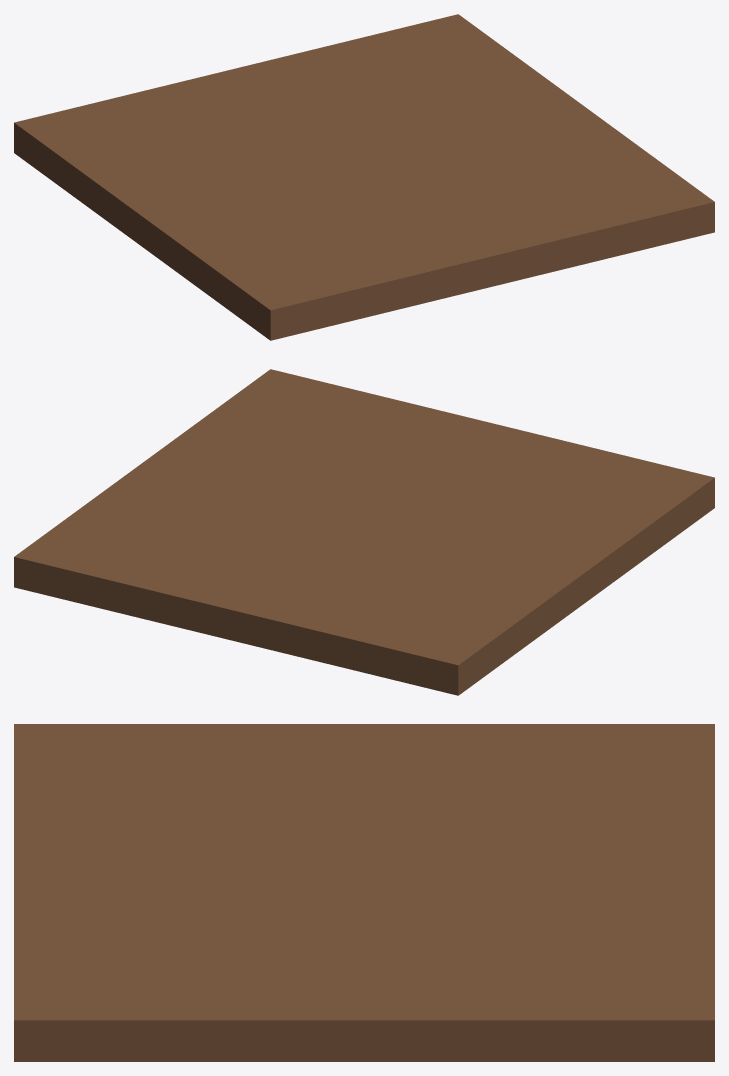
The model's file is street_X.fbx.
The picture shows the model from 3 angles, top to bottom: view 1: azimuth 30°, elevation 25°; view 2: azimuth 150°, elevation 25°; view 3: azimuth 270°, elevation 25°; orthographic projection. The views are drawn at different scales.
Visible parts, largest first — view 1: Cube; view 2: Cube; view 3: Cube.
Boxes of the visible parts, x1,y1,x2,y2 form: Cube: (14, 14, 714, 340); Cube: (14, 369, 714, 695); Cube: (14, 724, 714, 1061).
Bounding box in the file's own units: 200 × 13.1 × 200.
